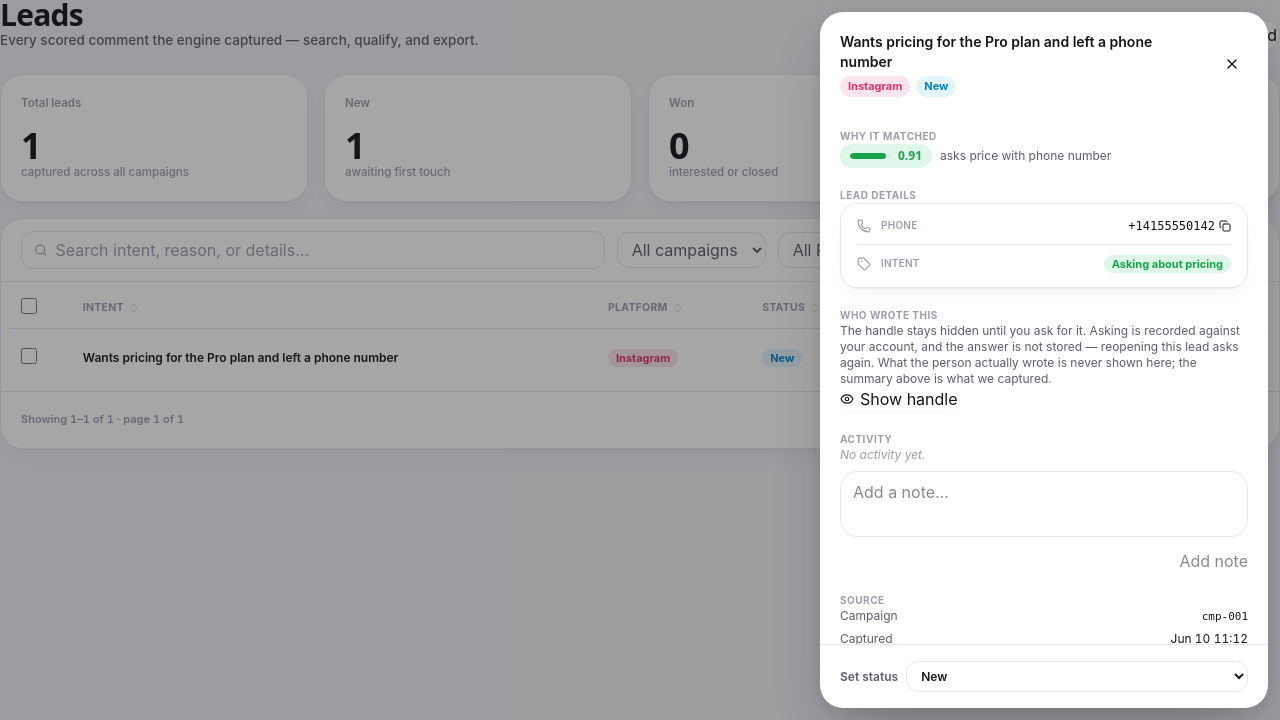
Lead drawer identity disclosure — the handle, and nothing else › an audited reveal shows the handle and never the comment or a post link
Expected: the text "dana_t" is not shown
Click the button "Show handle": point(899, 399) [840,387,958,411]
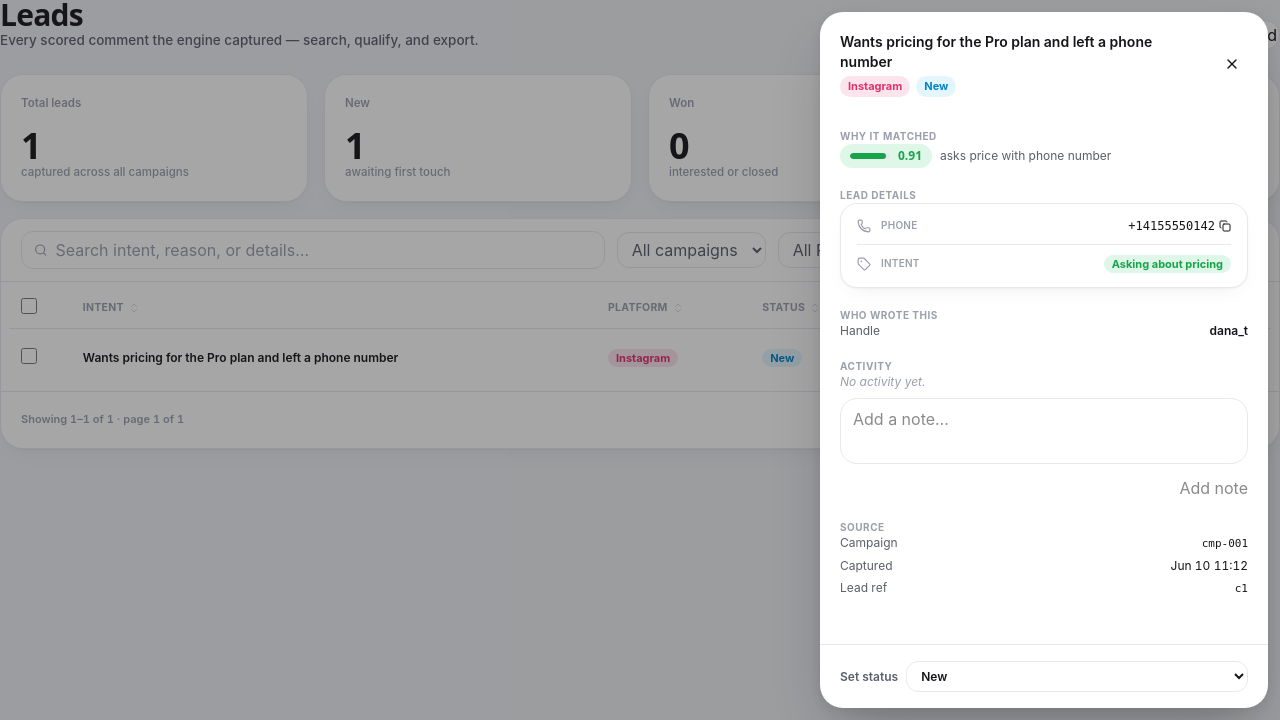
Expected: the text "dana_t" is shown, [1210,323,1248,339]
